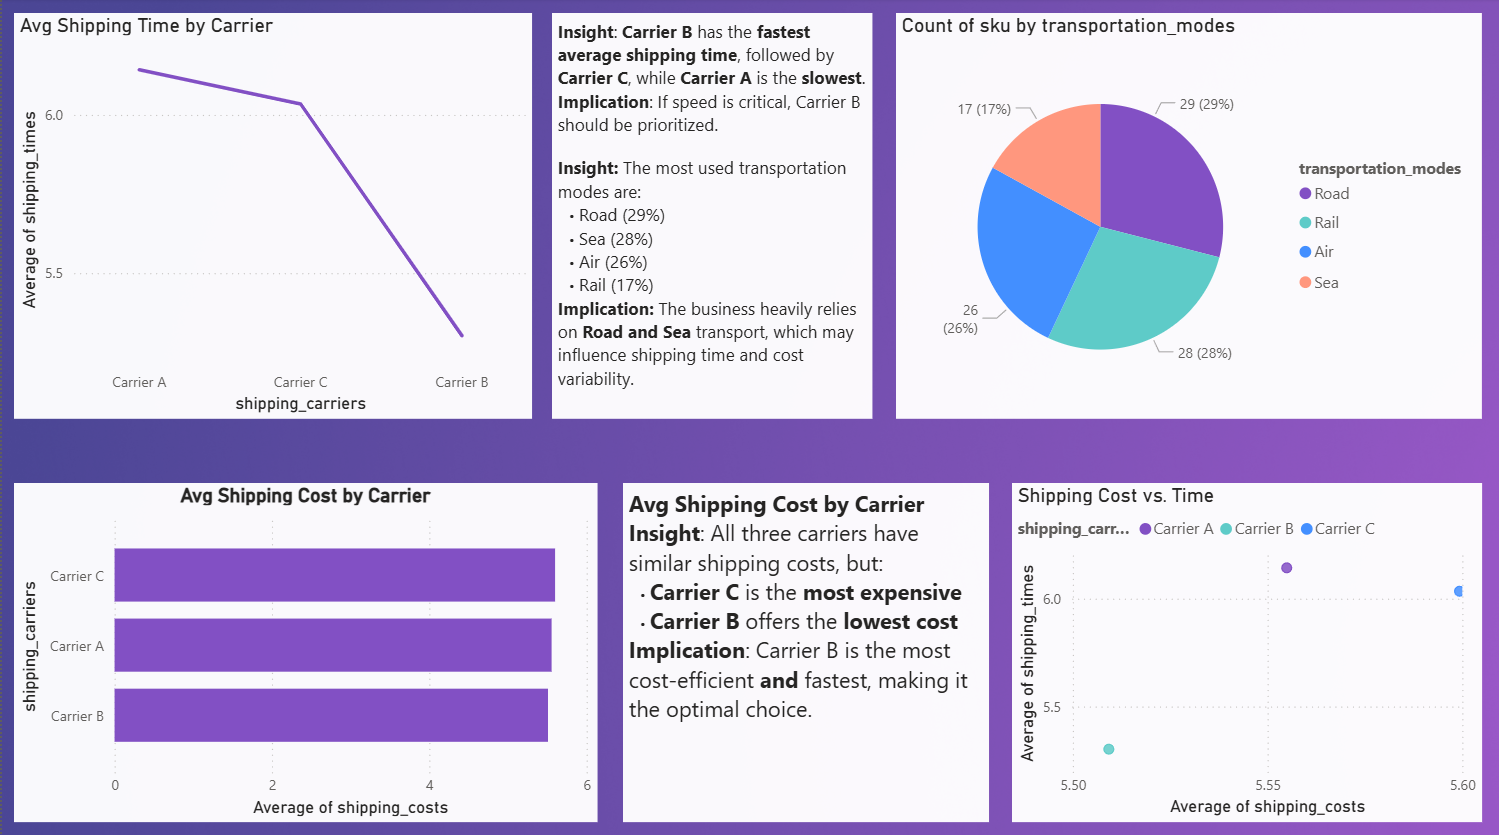

The dashboard page shown, as its layout file describes it:
{"tool":"powerbi","page":{"name":"Shipping & Transportation Analysis","canvas":[1280,720],"ordinal":3},"visuals":[{"type":"lineChart","title":"Avg Shipping Time by Carrier","fields":{"Category":["cleaned_supply_chain_data.shipping_carriers"],"Y":["Avg(cleaned_supply_chain_data.shipping_times)"]},"box":[9.9,12.8,443.2,346.6],"z":0},{"type":"clusteredBarChart","title":"Avg Shipping Cost by Carrier","fields":{"Category":["cleaned_supply_chain_data.shipping_carriers"],"Y":["Avg(cleaned_supply_chain_data.shipping_costs)"]},"box":[9.9,414.8,498.6,289.8],"z":1000},{"type":"pieChart","fields":{"Category":["cleaned_supply_chain_data.transportation_modes"],"Y":["Count(cleaned_supply_chain_data.sku)"]},"box":[764.3,12.8,501.5,346.6],"z":2000},{"type":"scatterChart","title":"Shipping Cost vs. Time","fields":{"X":["Avg(cleaned_supply_chain_data.shipping_costs)"],"Y":["Avg(cleaned_supply_chain_data.shipping_times)"],"Series":["cleaned_supply_chain_data.shipping_carriers"]},"box":[863.8,414.8,402,289.8],"z":3000},{"type":"textbox","box":[470.2,12.8,274.2,346.6],"z":4000},{"type":"textbox","box":[531.3,414.8,312.5,289.8],"z":5000}]}

Visuals, with their boxes in screenshot pixels (x1, y1, x2, y2), scaled from the page's 1280x720 canvas onto the 1499x835 screenshot:
"Avg Shipping Time by Carrier" lineChart: bbox(12, 15, 531, 417)
"Avg Shipping Cost by Carrier" clusteredBarChart: bbox(12, 481, 596, 817)
pieChart - cleaned_supply_chain_data.transportation_modes x Count(cleaned_supply_chain_data.sku): bbox(895, 15, 1482, 417)
"Shipping Cost vs. Time" scatterChart: bbox(1012, 481, 1482, 817)
textbox: bbox(551, 15, 872, 417)
textbox: bbox(622, 481, 988, 817)
